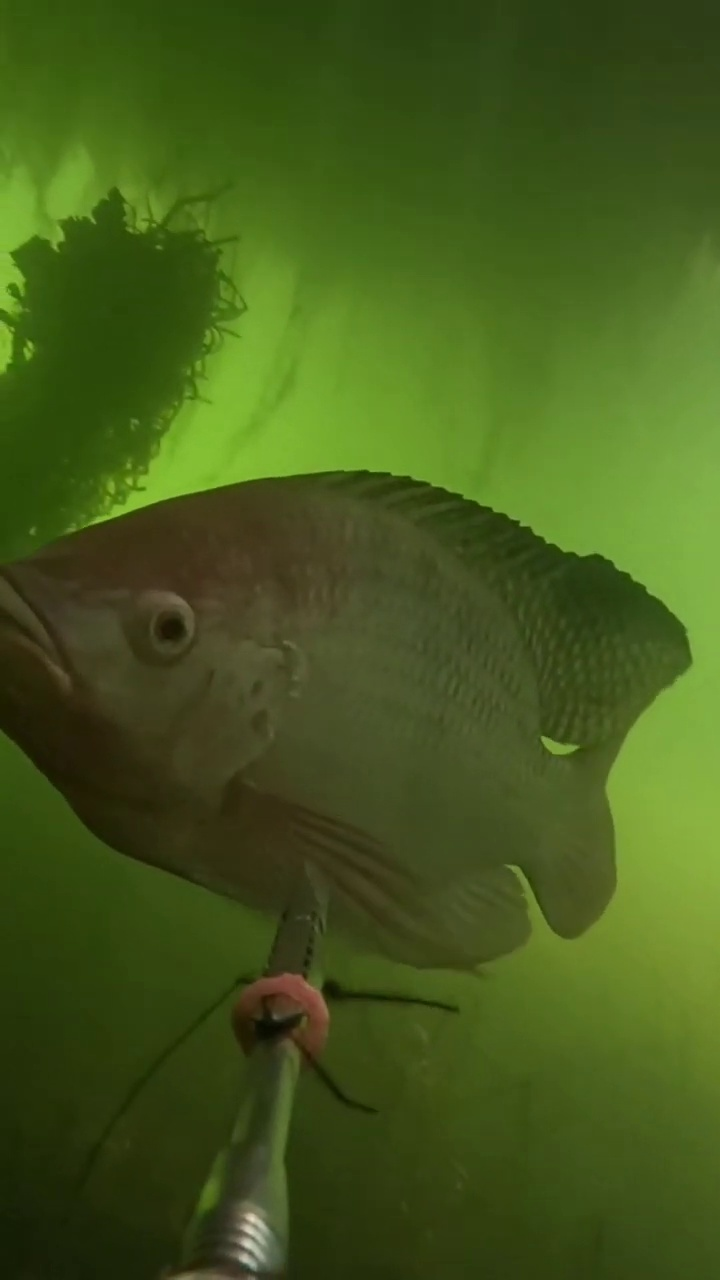Tilapia: (8, 468, 716, 981)
